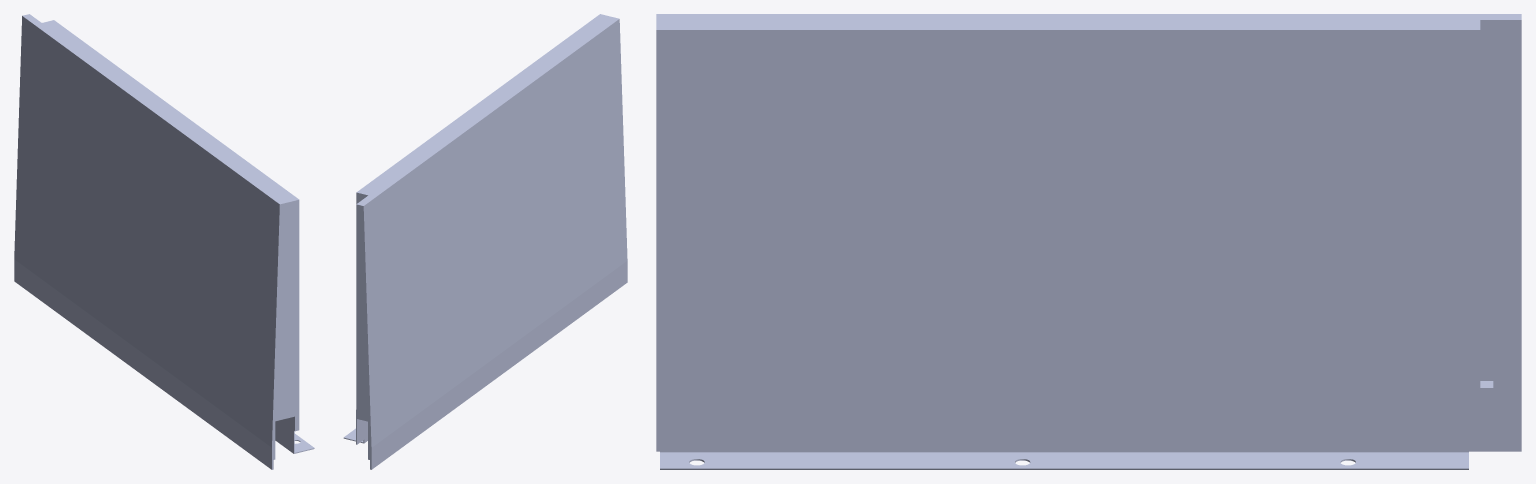
Rendered from mv-kava-E350-p.glb.
3 renders of one model, left to right at view 1: azimuth 30°, elevation 25°; view 2: azimuth 150°, elevation 25°; view 3: azimuth 270°, elevation 25°, orthographic. The views are drawn at different scales.
Visible parts, largest first — view 1: 41871197; view 2: 41871197; view 3: 41871197.
Part boxes in pixels (box(x1,y1,x2,y2)): 41871197: box(14, 14, 314, 469); 41871197: box(343, 14, 627, 469); 41871197: box(656, 14, 1521, 469).
Bounding box in the file's own units: 0.0335 × 0.192 × 0.3402.
